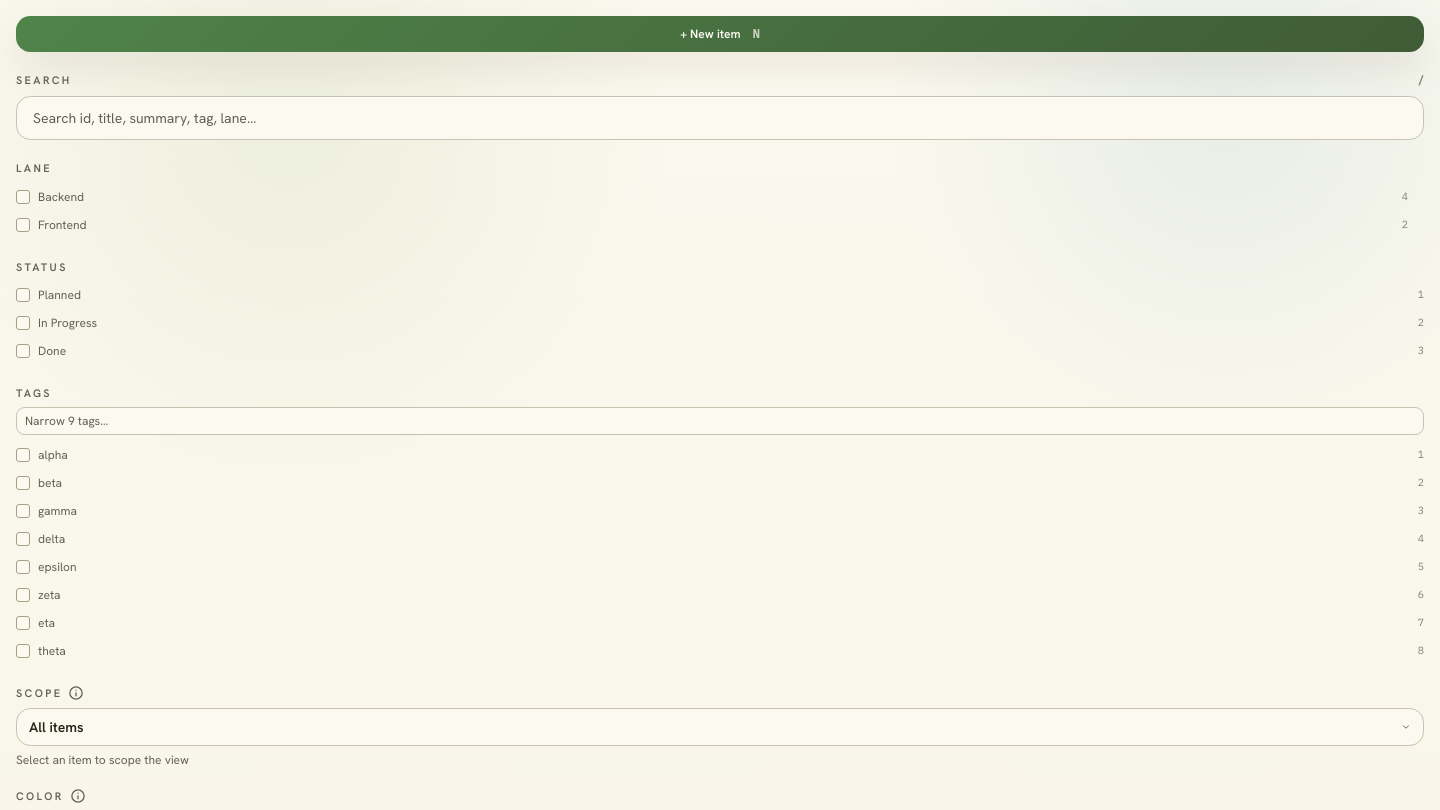
Test: PlanToolbar — tag list narrowing › reports when no tags match the narrowing query
Type "nomatch" into the search field named "Narrow tag list".
click(720, 421); type("nomatch")  # box [16,407,1424,435]
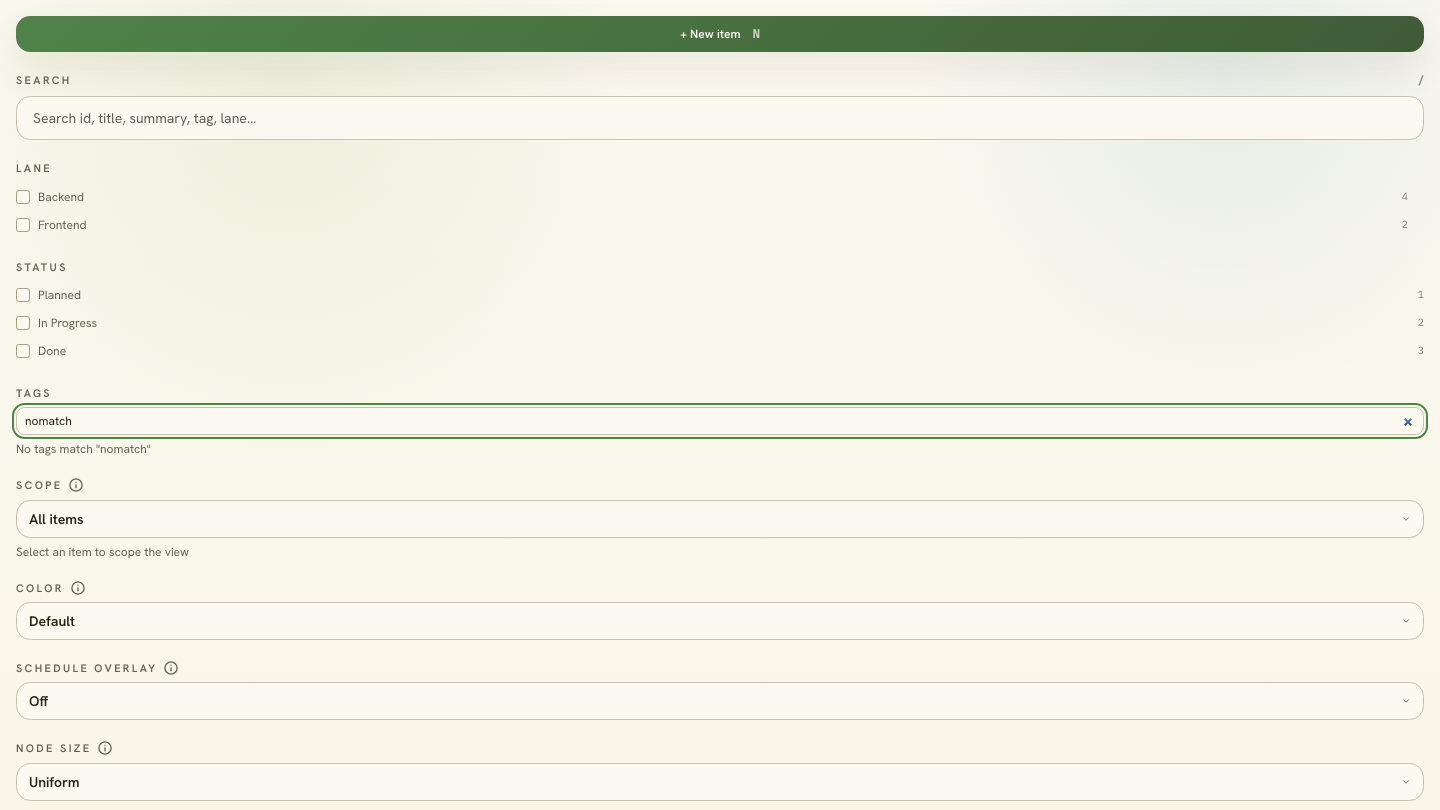
Result: the text "No tags match \"nomatch\"" is shown at [16,441,151,457]
